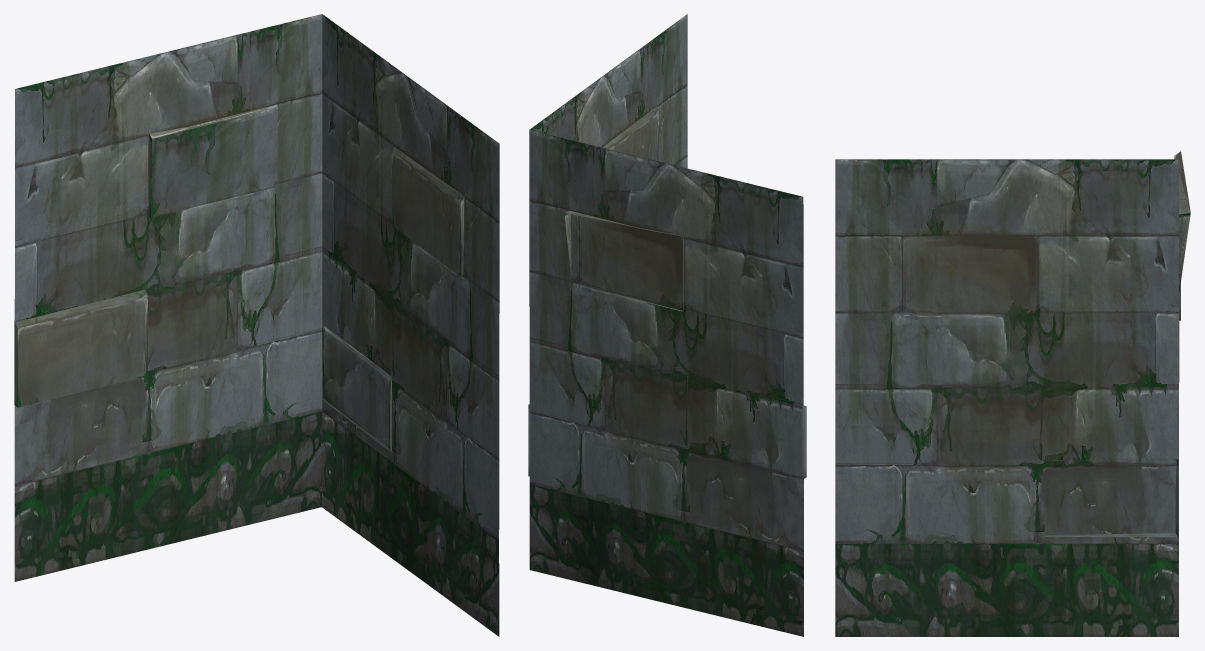
File: stemple_wall_concave_06.fbx
3 renders of one model, left to right at view 1: azimuth 30°, elevation 25°; view 2: azimuth 150°, elevation 25°; view 3: azimuth 270°, elevation 25°, orthographic. The views are drawn at different scales.
Parts seen in each view (by area): view 1: stemple_wall_concave_06-0; view 2: stemple_wall_concave_06-0; view 3: stemple_wall_concave_06-0.
Boxes of the visible parts, left/top/right/bottom form: stemple_wall_concave_06-0: left=14, top=14, right=499, bottom=636; stemple_wall_concave_06-0: left=528, top=14, right=806, bottom=636; stemple_wall_concave_06-0: left=835, top=151, right=1190, bottom=636.
Bounding box in the file's own units: 3.61 × 5.5 × 3.71.
